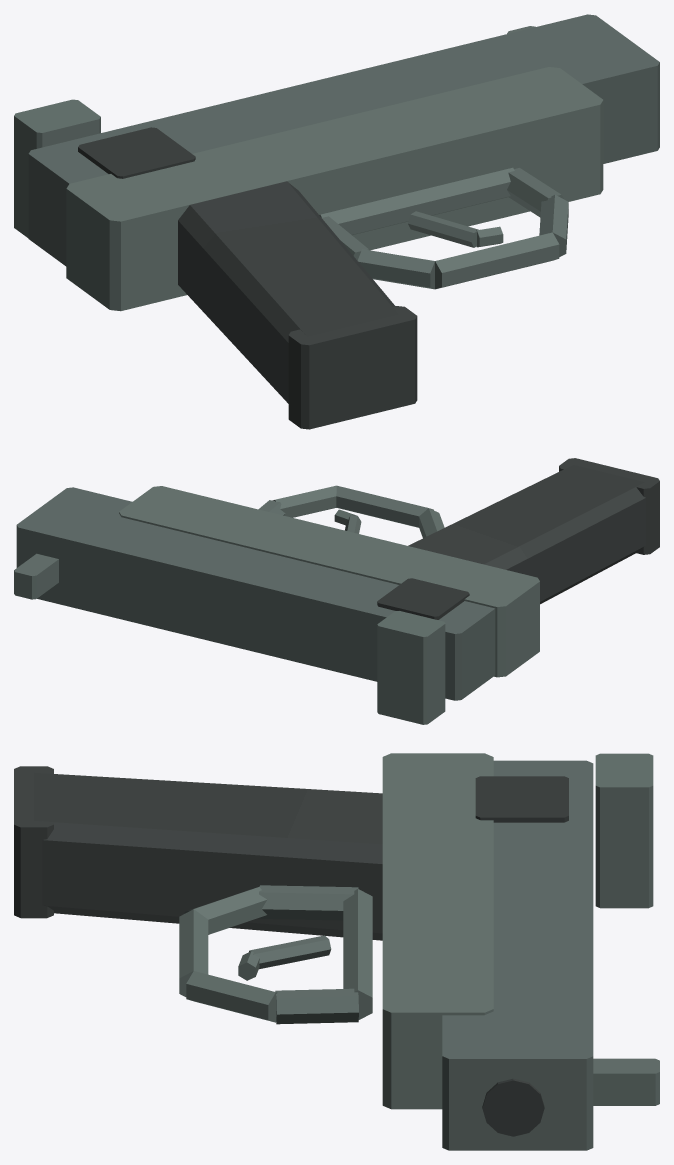
The model's file is weapon-glock-43.glb.
3 renders of one model, top to bottom at view 1: azimuth 30°, elevation 25°; view 2: azimuth 150°, elevation 25°; view 3: azimuth 270°, elevation 25°, orthographic. The views are drawn at different scales.
Visible parts, largest first — view 1: weapon-glock-43/lower-frame, weapon-glock-43/flat-slide, weapon-glock-43/eight-sided-grip, weapon-glock-43/eight-sided-grip-heel, weapon-glock-43/hollow-trigger-guard-1, weapon-glock-43/rear-sight, weapon-glock-43/slide-rear-serrations-left, weapon-glock-43/hollow-trigger-guard-4, weapon-glock-43/hollow-trigger-guard-5, weapon-glock-43/hollow-trigger-guard-2, weapon-glock-43/hollow-trigger-guard-trigger-1, weapon-glock-43/hollow-trigger-guard-3 (+1 smaller); view 2: weapon-glock-43/flat-slide, weapon-glock-43/lower-frame, weapon-glock-43/eight-sided-grip, weapon-glock-43/rear-sight, weapon-glock-43/slide-rear-serrations-left, weapon-glock-43/hollow-trigger-guard-4, weapon-glock-43/eight-sided-grip-heel, weapon-glock-43/front-sight, weapon-glock-43/hollow-trigger-guard-3, weapon-glock-43/hollow-trigger-guard-5; view 3: weapon-glock-43/eight-sided-grip, weapon-glock-43/flat-slide, weapon-glock-43/lower-frame, weapon-glock-43/rear-sight, weapon-glock-43/slide-rear-serrations-left, weapon-glock-43/eight-sided-grip-heel, weapon-glock-43/hollow-trigger-guard-1, weapon-glock-43/front-sight, weapon-glock-43/hollow-trigger-guard-6, weapon-glock-43/hollow-trigger-guard-2, weapon-glock-43/muzzle-dark-disc, weapon-glock-43/hollow-trigger-guard-3 (+3 smaller).
Part boxes in pixels (x1,y1,x2,y2): weapon-glock-43/lower-frame: (66, 67, 603, 311); weapon-glock-43/flat-slide: (28, 14, 659, 266); weapon-glock-43/eight-sided-grip: (178, 181, 398, 403); weapon-glock-43/eight-sided-grip-heel: (288, 306, 417, 429); weapon-glock-43/hollow-trigger-guard-1: (319, 167, 514, 235); weapon-glock-43/rear-sight: (14, 99, 100, 238); weapon-glock-43/slide-rear-serrations-left: (78, 127, 195, 178); weapon-glock-43/hollow-trigger-guard-4: (435, 232, 559, 289); weapon-glock-43/hollow-trigger-guard-5: (357, 249, 434, 289); weapon-glock-43/hollow-trigger-guard-2: (507, 168, 564, 217); weapon-glock-43/hollow-trigger-guard-trigger-1: (408, 211, 478, 247); weapon-glock-43/hollow-trigger-guard-3: (539, 195, 568, 256); weapon-glock-43/flat-slide: (16, 487, 495, 700); weapon-glock-43/lower-frame: (119, 486, 539, 677); weapon-glock-43/eight-sided-grip: (408, 464, 645, 604); weapon-glock-43/rear-sight: (377, 611, 445, 724); weapon-glock-43/slide-rear-serrations-left: (377, 578, 469, 619); weapon-glock-43/hollow-trigger-guard-4: (336, 485, 433, 527); weapon-glock-43/eight-sided-grip-heel: (559, 458, 659, 554); weapon-glock-43/front-sight: (14, 553, 58, 599); weapon-glock-43/hollow-trigger-guard-3: (272, 485, 336, 517); weapon-glock-43/hollow-trigger-guard-5: (419, 508, 444, 538); weapon-glock-43/eight-sided-grip: (34, 772, 382, 940); weapon-glock-43/flat-slide: (442, 760, 593, 1150); weapon-glock-43/lower-frame: (382, 753, 493, 1109); weapon-glock-43/rear-sight: (595, 753, 653, 908); weapon-glock-43/slide-rear-serrations-left: (475, 776, 568, 822); weapon-glock-43/eight-sided-grip-heel: (14, 766, 53, 918); weapon-glock-43/hollow-trigger-guard-1: (343, 889, 372, 1019); weapon-glock-43/front-sight: (593, 1058, 659, 1105); weapon-glock-43/hollow-trigger-guard-6: (259, 885, 358, 920); weapon-glock-43/hollow-trigger-guard-2: (275, 988, 358, 1024); weapon-glock-43/muzzle-dark-disc: (482, 1078, 544, 1136); weapon-glock-43/hollow-trigger-guard-3: (186, 971, 277, 1022).
Bounding box in the file's own units: 0.1637 × 0.03 × 0.1455.
2 materials, 2 textured.
